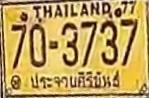0: (29, 24, 46, 66)
3: (100, 20, 117, 64), (61, 22, 77, 65)
7: (120, 18, 137, 65), (80, 20, 97, 66), (11, 24, 26, 68)
PKN: (28, 70, 123, 90)
